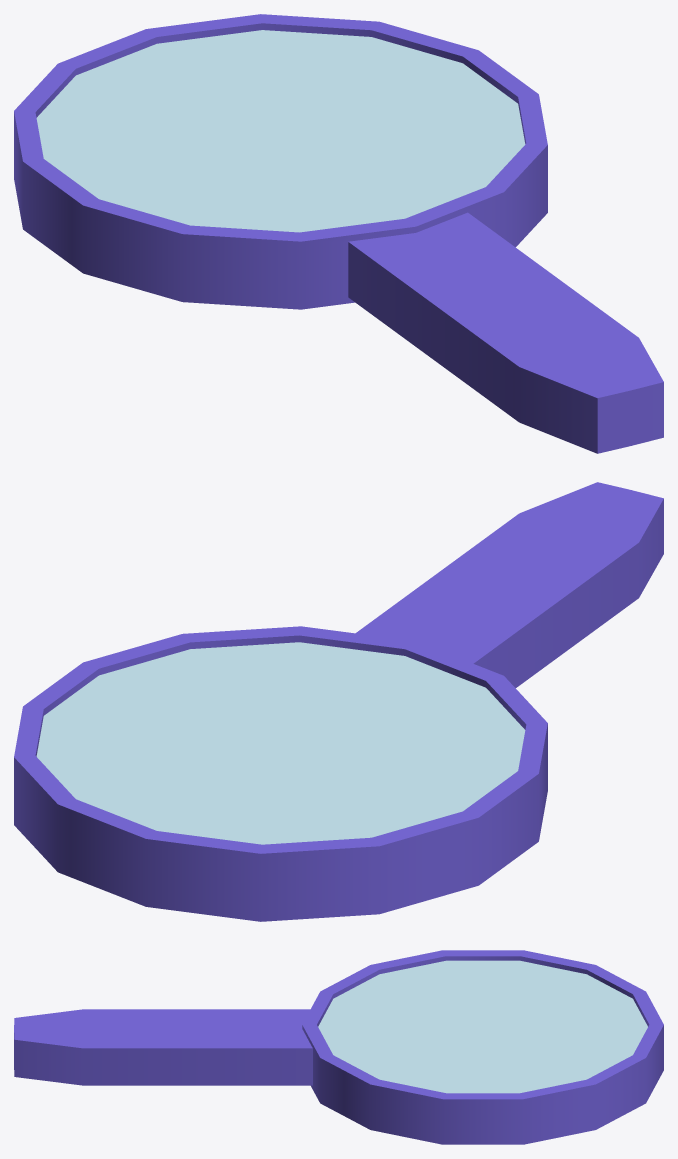
File: HandMirror.fbx
The picture shows the model from 3 angles, top to bottom: view 1: azimuth 30°, elevation 25°; view 2: azimuth 150°, elevation 25°; view 3: azimuth 270°, elevation 25°; orthographic projection. The views are drawn at different scales.
Parts seen in each view (by area): view 1: Hand Mirror; view 2: Hand Mirror; view 3: Hand Mirror.
Boxes of the visible parts, left/top/right/bottom form: Hand Mirror: left=14, top=14, right=663, bottom=453; Hand Mirror: left=14, top=482, right=663, bottom=921; Hand Mirror: left=14, top=950, right=663, bottom=1144.
Size of the model in its own units: 12.23 by 1.74 by 22.55.
